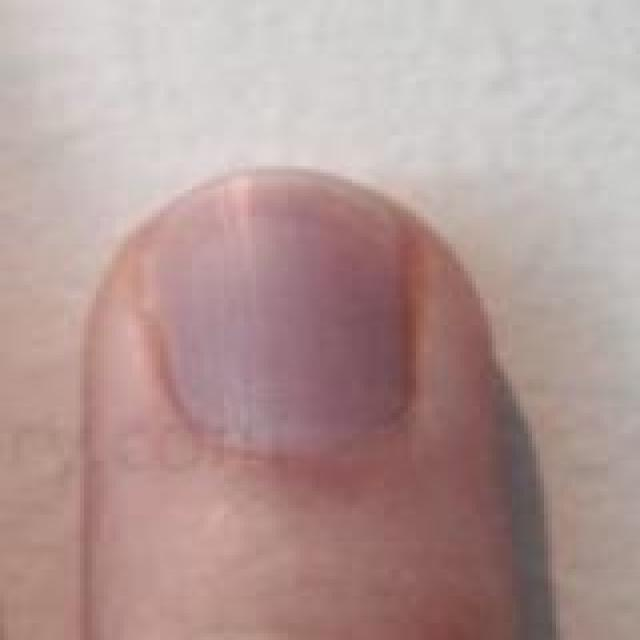Nail: (143, 170, 415, 451)
